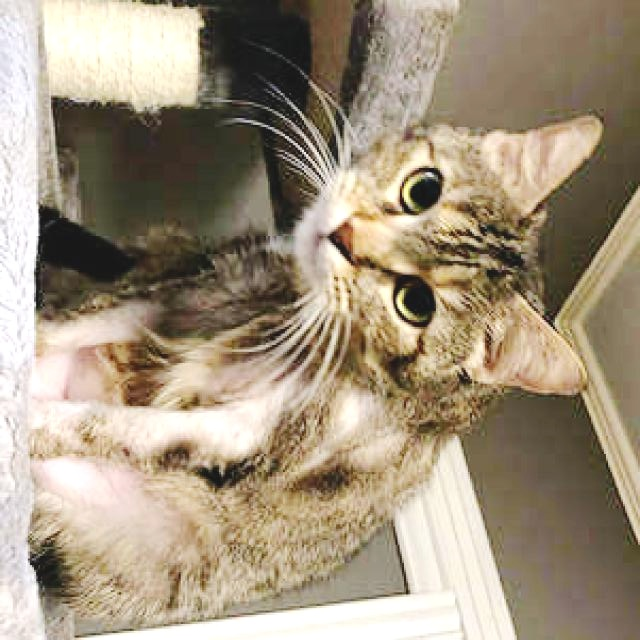hairloss: (90, 405, 261, 447), (37, 470, 174, 516), (37, 300, 147, 356)
